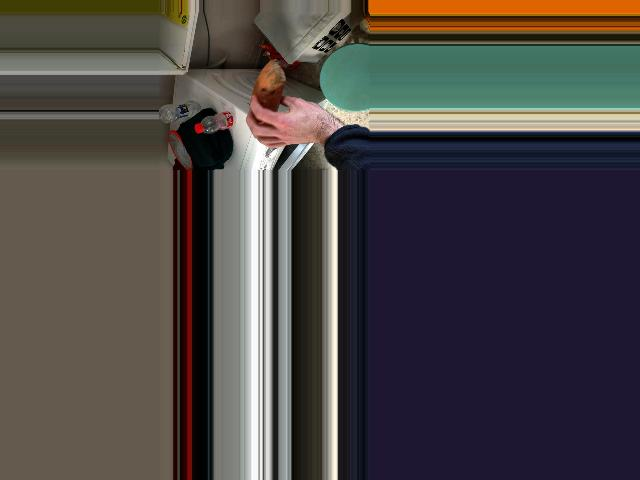sweet_potato: (253, 62, 284, 131)
